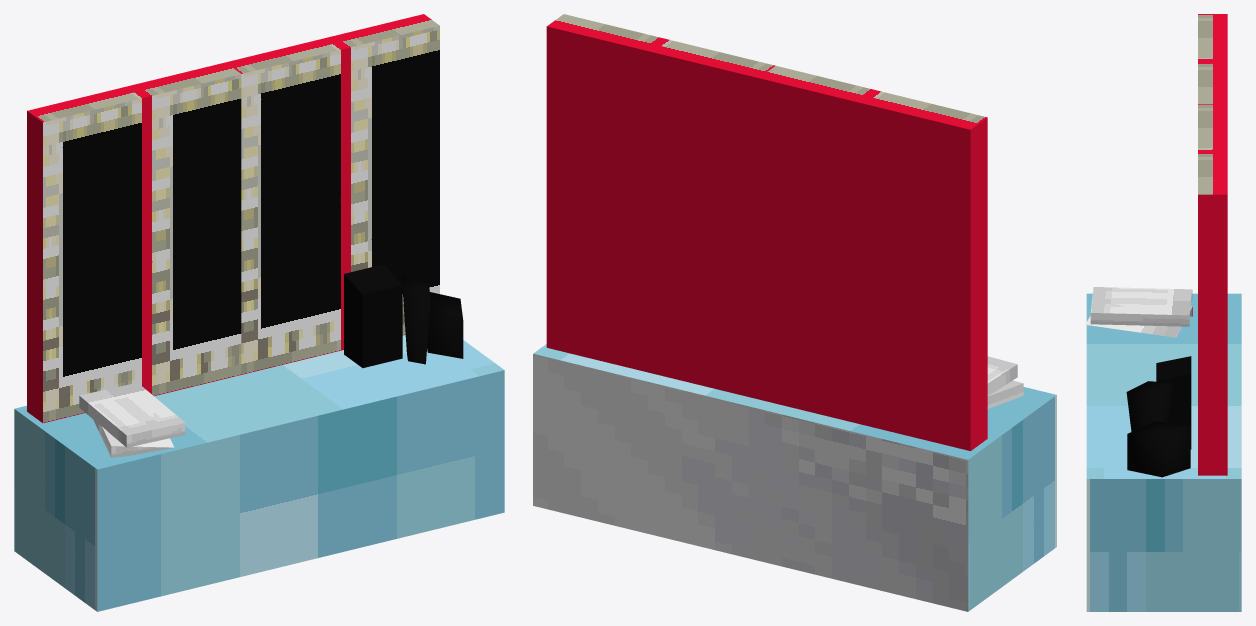
3 views of the same model, side by side, from view 1: azimuth 30°, elevation 25°; view 2: azimuth 150°, elevation 25°; view 3: azimuth 270°, elevation 25° (orthographic). The views are drawn at different scales.
Parts seen in each view (by area): view 1: 3937kg3_gs29; view 2: 3937kg3_gs29; view 3: 3937kg3_gs29.
Part boxes in pixels (x1,y1,x2,y2): 3937kg3_gs29: (14,14,504,611); 3937kg3_gs29: (533,14,1056,611); 3937kg3_gs29: (1085,14,1241,611).
Bounding box in the file's own units: 1.99 × 2.08 × 0.7104.
Materials: 4 (4 with a texture image).
